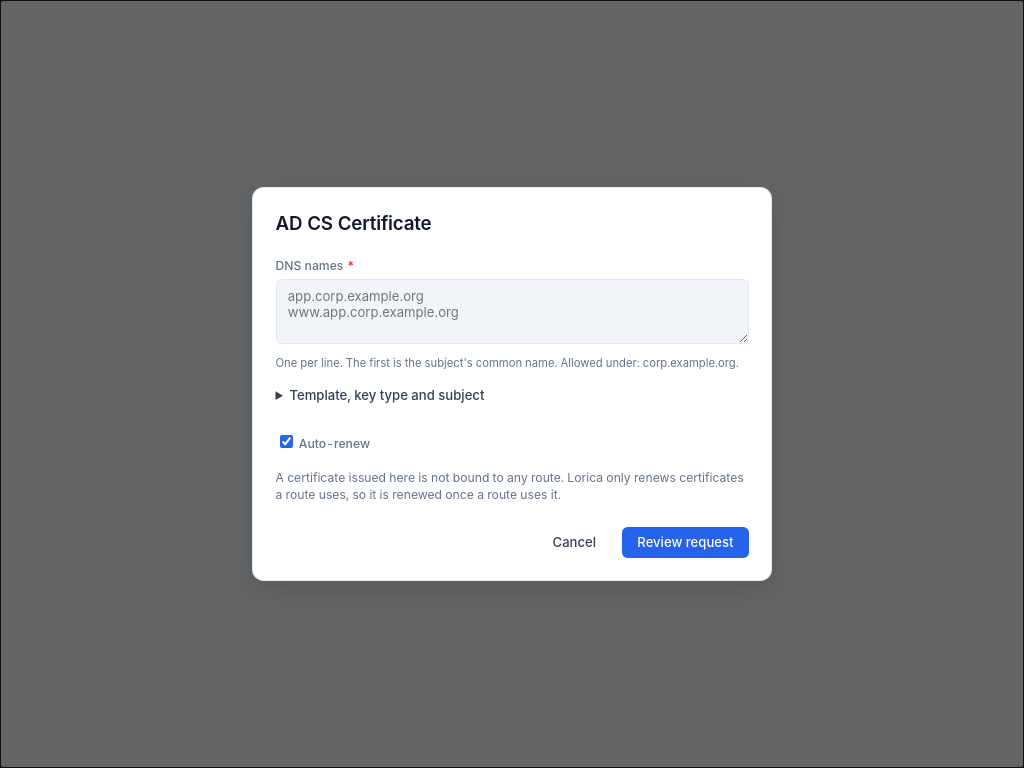
Scenario: CertificateAdcsForm hints and request › refuses to review an empty name list
Click the button "Review request": click(685, 542) [622, 526, 748, 558]
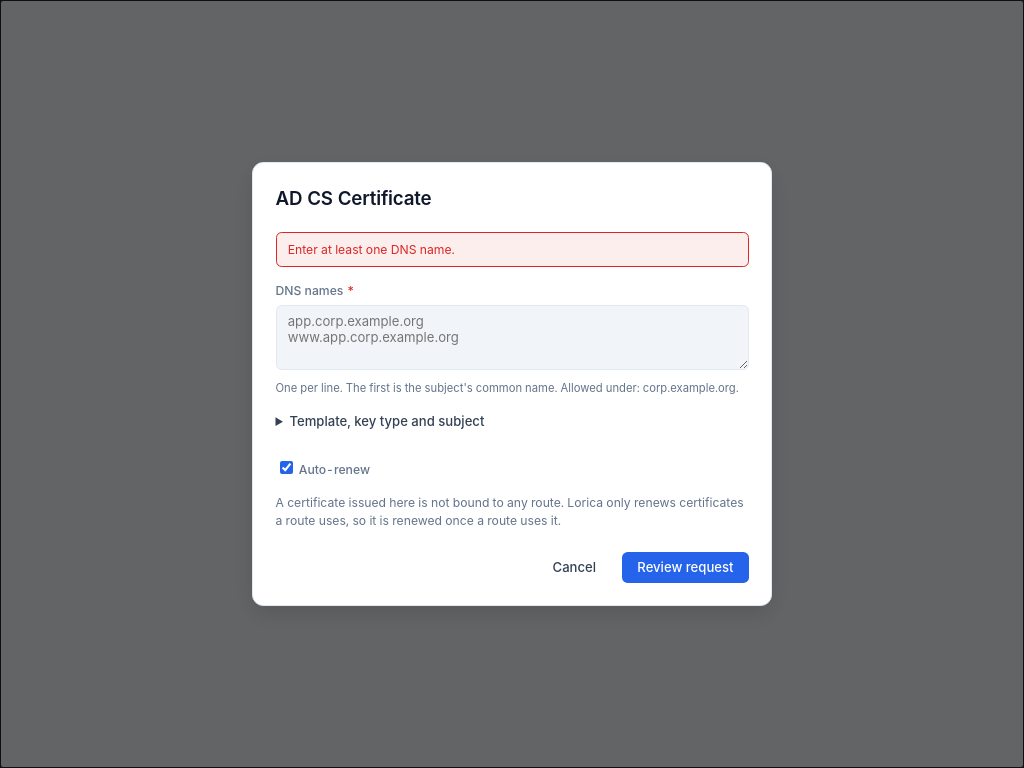
Check: the message reads "Enter at least one DNS name.", box [288, 242, 455, 257]
